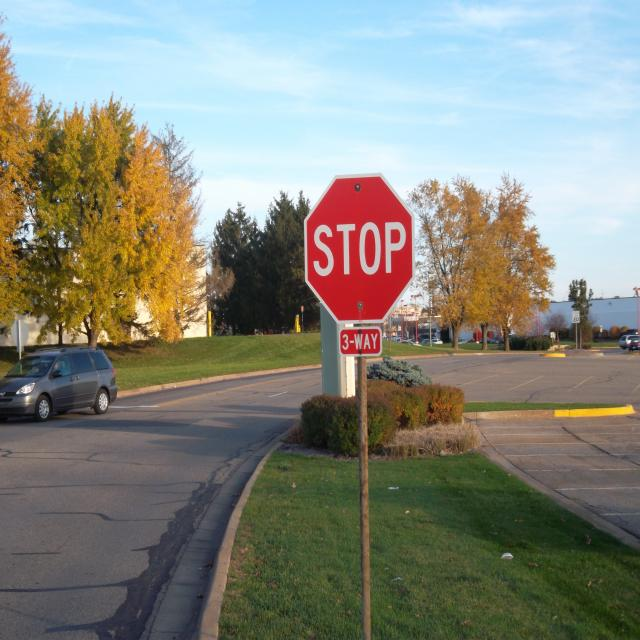stop: (303, 174, 417, 326)
